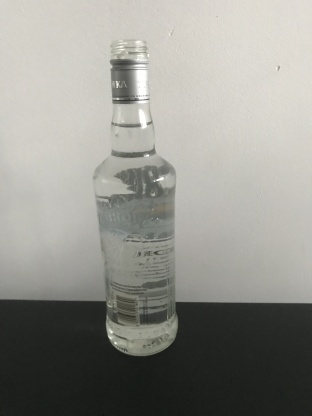nakretka: (108, 36, 151, 104)
